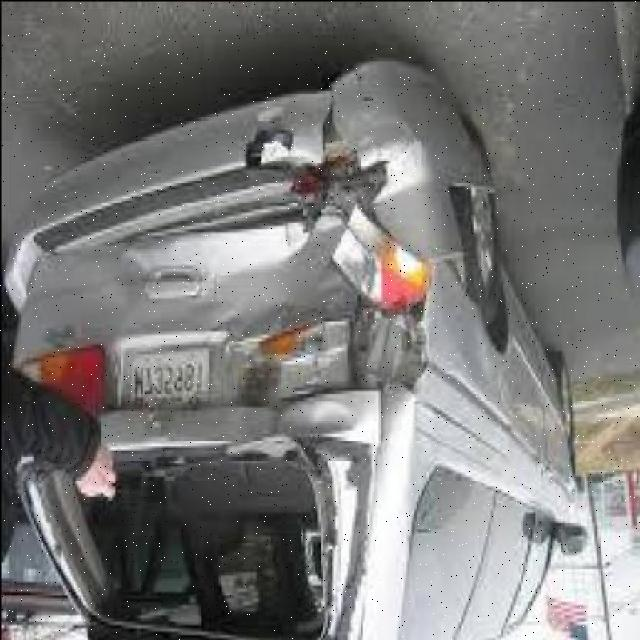damage: (22, 68, 495, 640)
